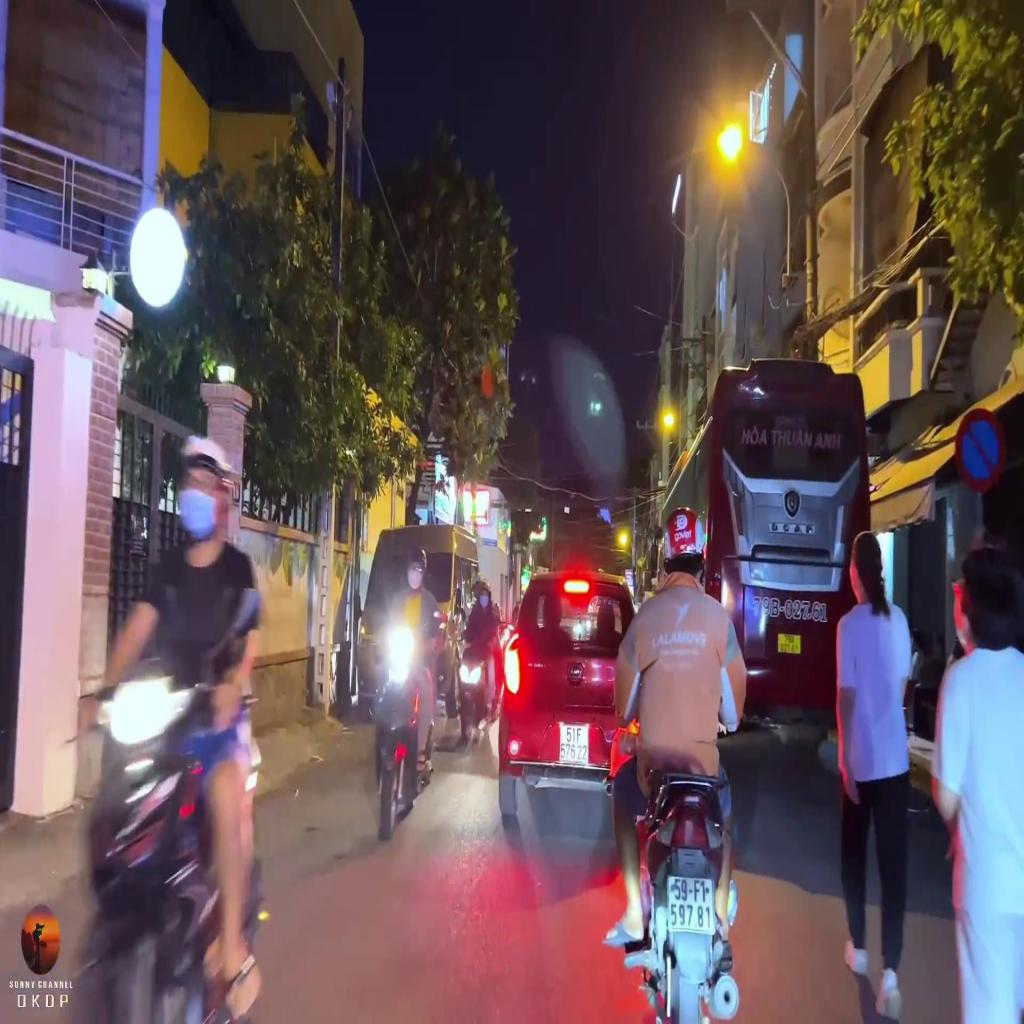cam_do_xe: (955, 408, 1004, 496)
